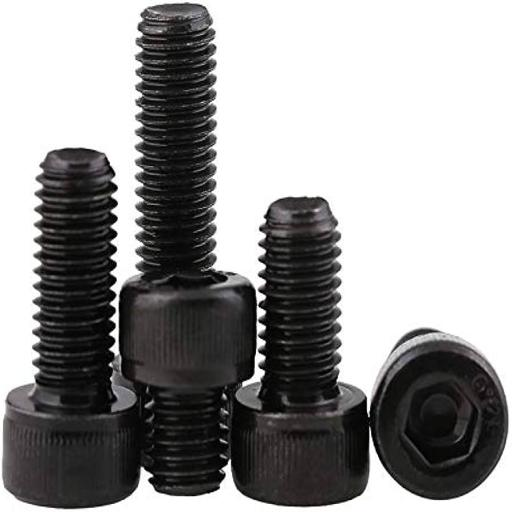Hex-Allen: (371, 338, 506, 502)
